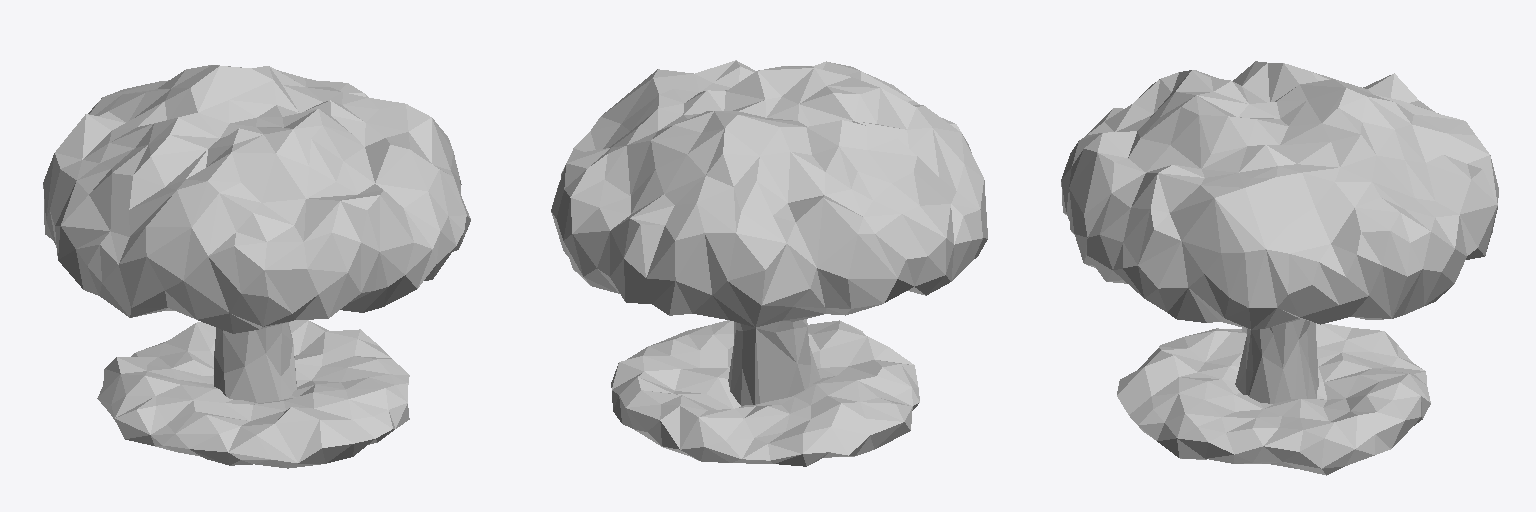
The model's file is mushroom.obj.
3 renders of one model, left to right at view 1: azimuth 30°, elevation 25°; view 2: azimuth 150°, elevation 25°; view 3: azimuth 270°, elevation 25°, orthographic.
Visible parts, largest first — view 1: Nuke_low; view 2: Nuke_low; view 3: Nuke_low.
Part boxes in pixels (bbox=[...]): Nuke_low: bbox=[43, 65, 470, 468]; Nuke_low: bbox=[551, 60, 987, 466]; Nuke_low: bbox=[1061, 61, 1498, 475].
Size of the model in its own units: 8919 by 7559 by 9000.